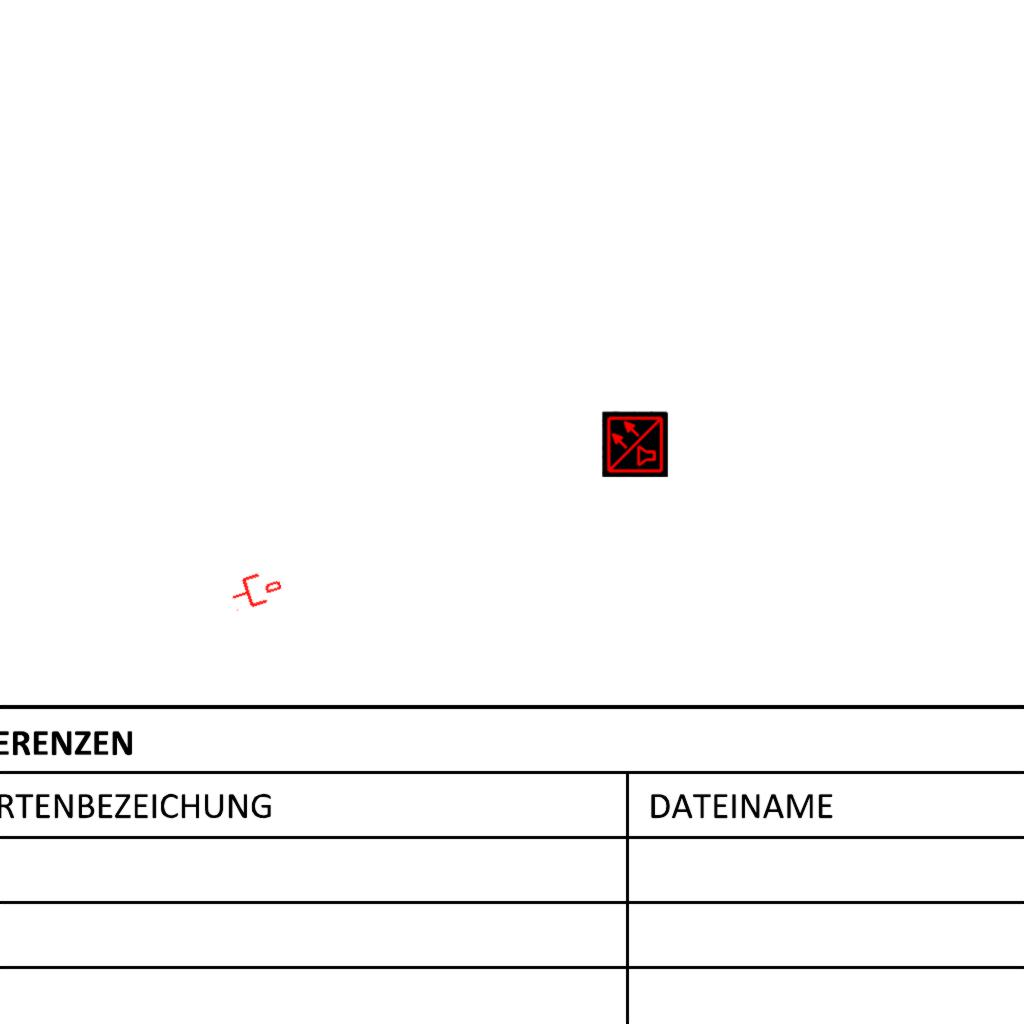Datenanschluss_einfach: (226, 566, 286, 614)
OKW_Multisensormelder_(Kombination_optischer_Rauch-Kahlenmonoxid_Waerme-Melder): (602, 411, 668, 477)
